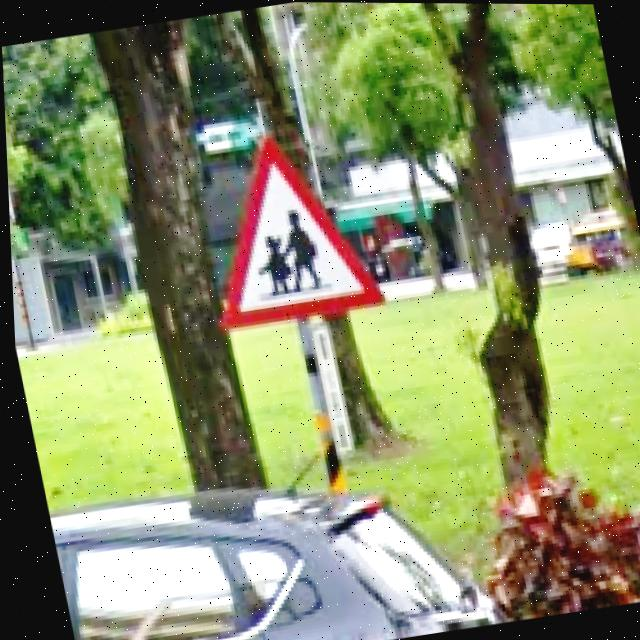childrencross: (219, 138, 384, 328)
